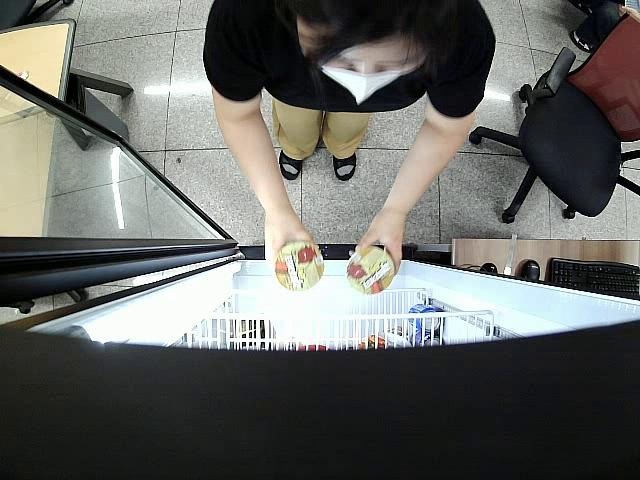00_hand: (357, 213, 404, 276), (263, 209, 313, 266)
04_chapagetti_S: (275, 241, 324, 293), (345, 247, 393, 295)
